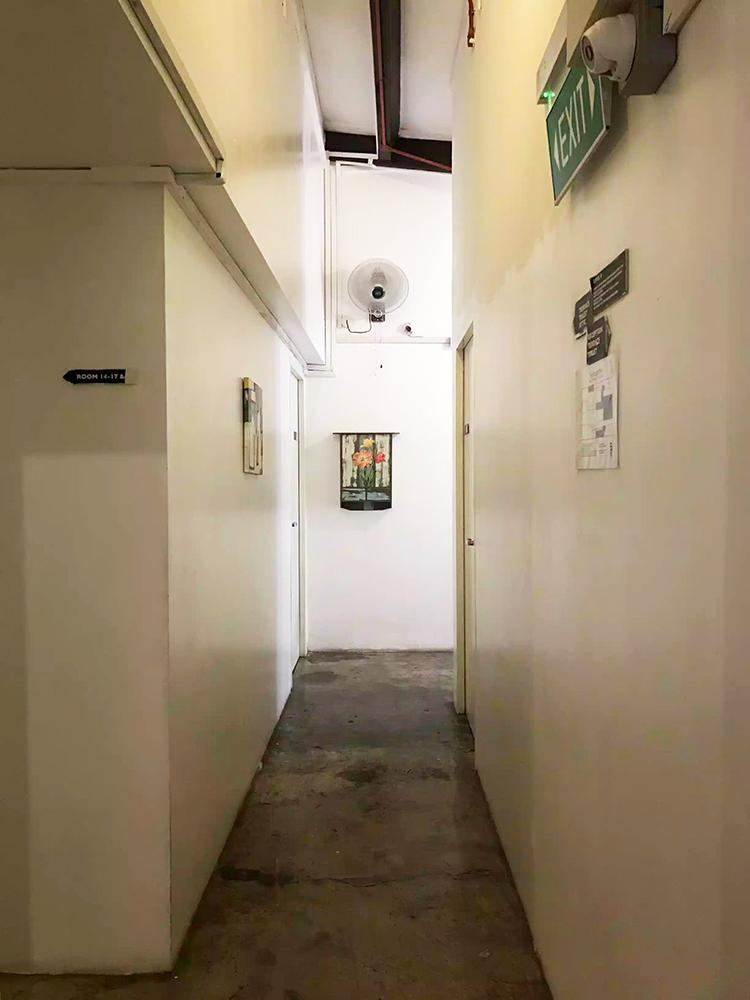unlit_exit_sign: (548, 67, 611, 201)
